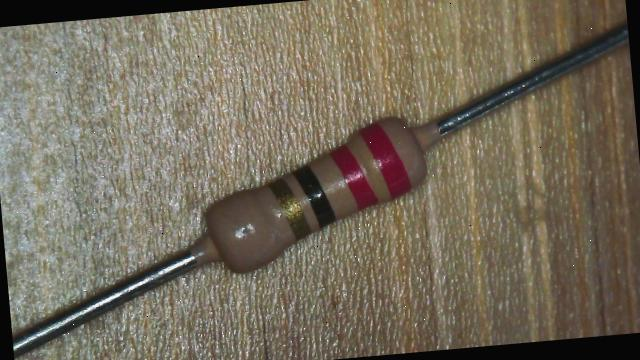black: (292, 163, 336, 229)
gold: (268, 176, 310, 240)
red: (331, 142, 378, 212), (366, 130, 412, 188)
resistor: (187, 82, 465, 303)
